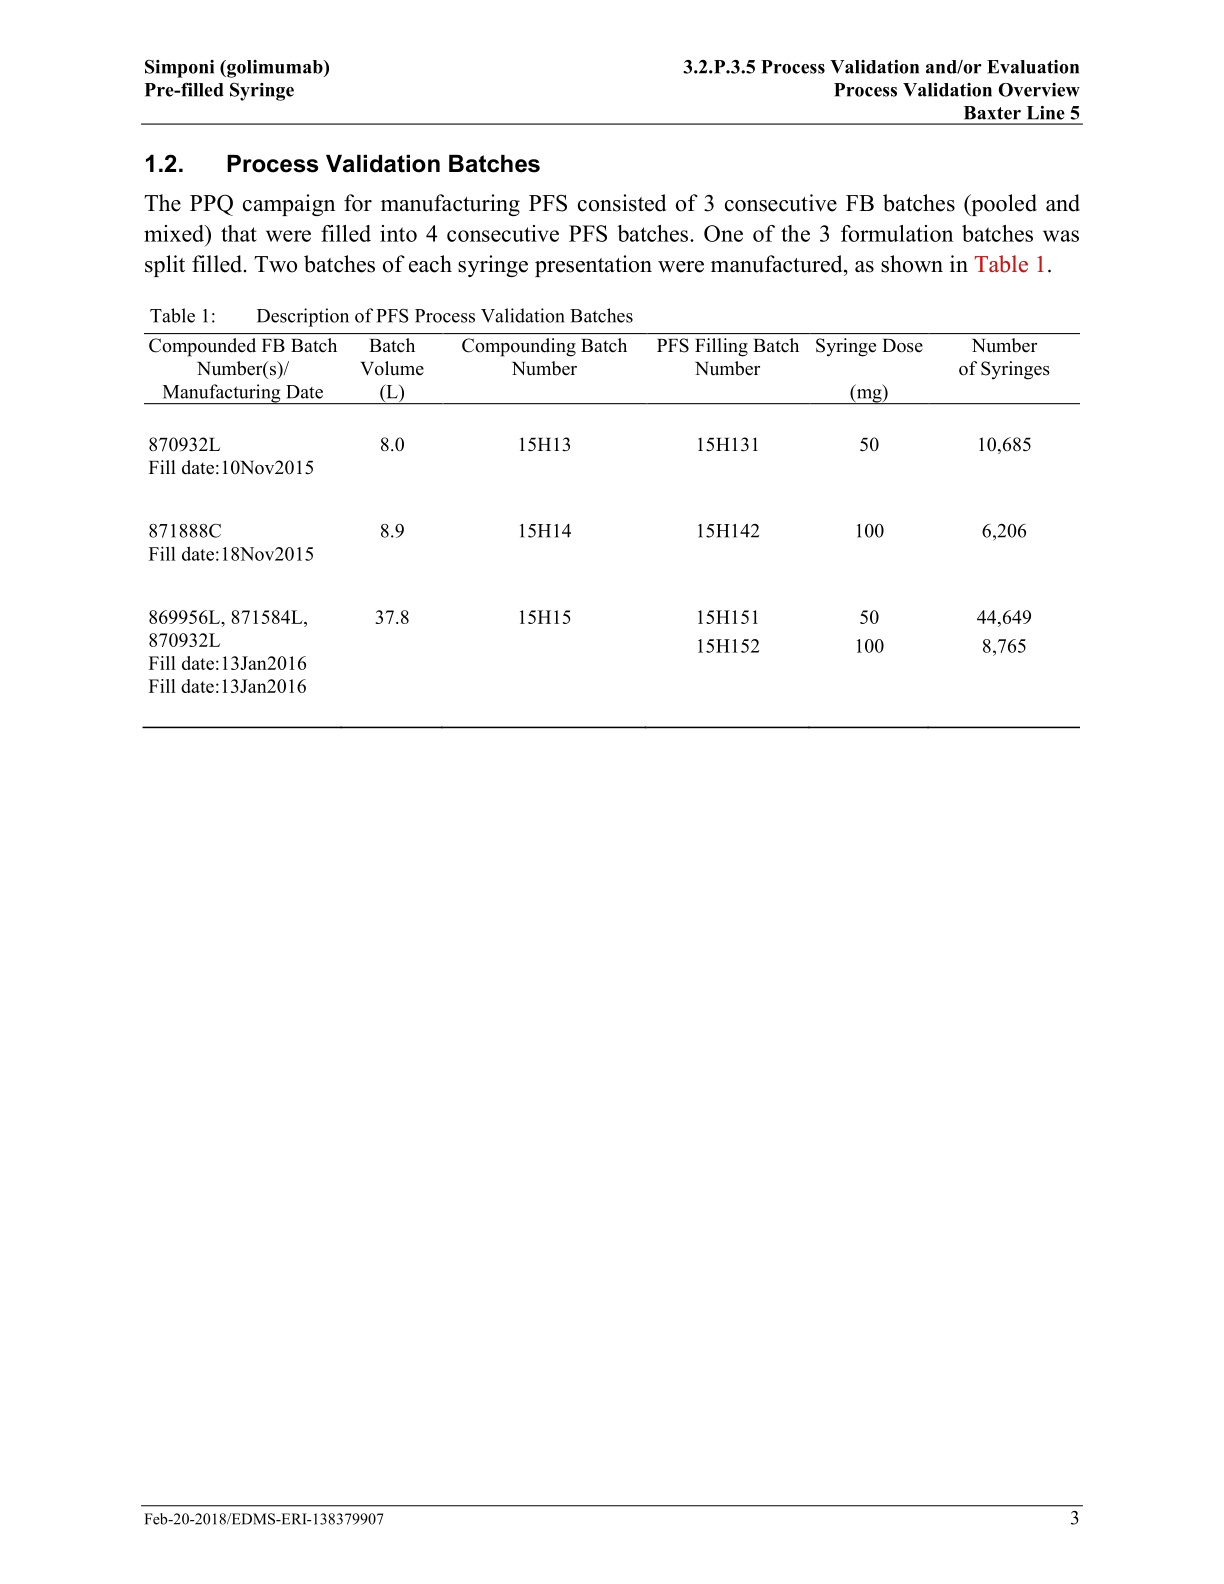partial_lined: (143, 330, 1083, 732)
